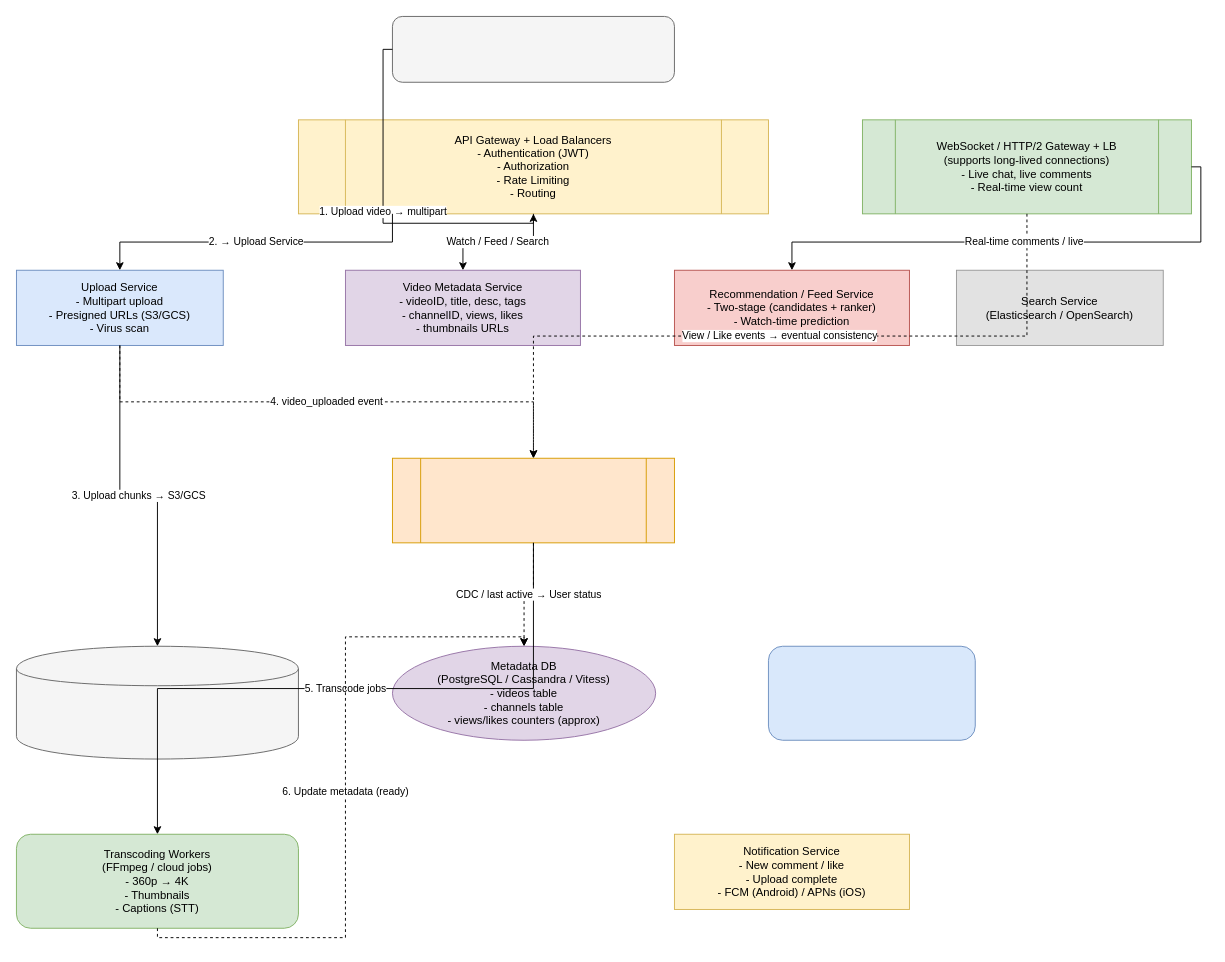
This 1225x962 diagram has some shape labels left out. The shapes that lost their labels are listed below. From the top down, each one's centre as x and y in pixels, then its label:
At point (533, 49): "Clients (Web / iOS / Android / TV)".
At point (533, 500): "Kafka / Event Bus (async heavy writes) - video_uploaded - view_event, like_event".
At point (157, 702): "BLOB Storage (GCS / S3) Original + Transcoded versions Thumbnails".
At point (871, 692): "Redis - Hot videos metadata - Popular channels - Session / connection registry".
